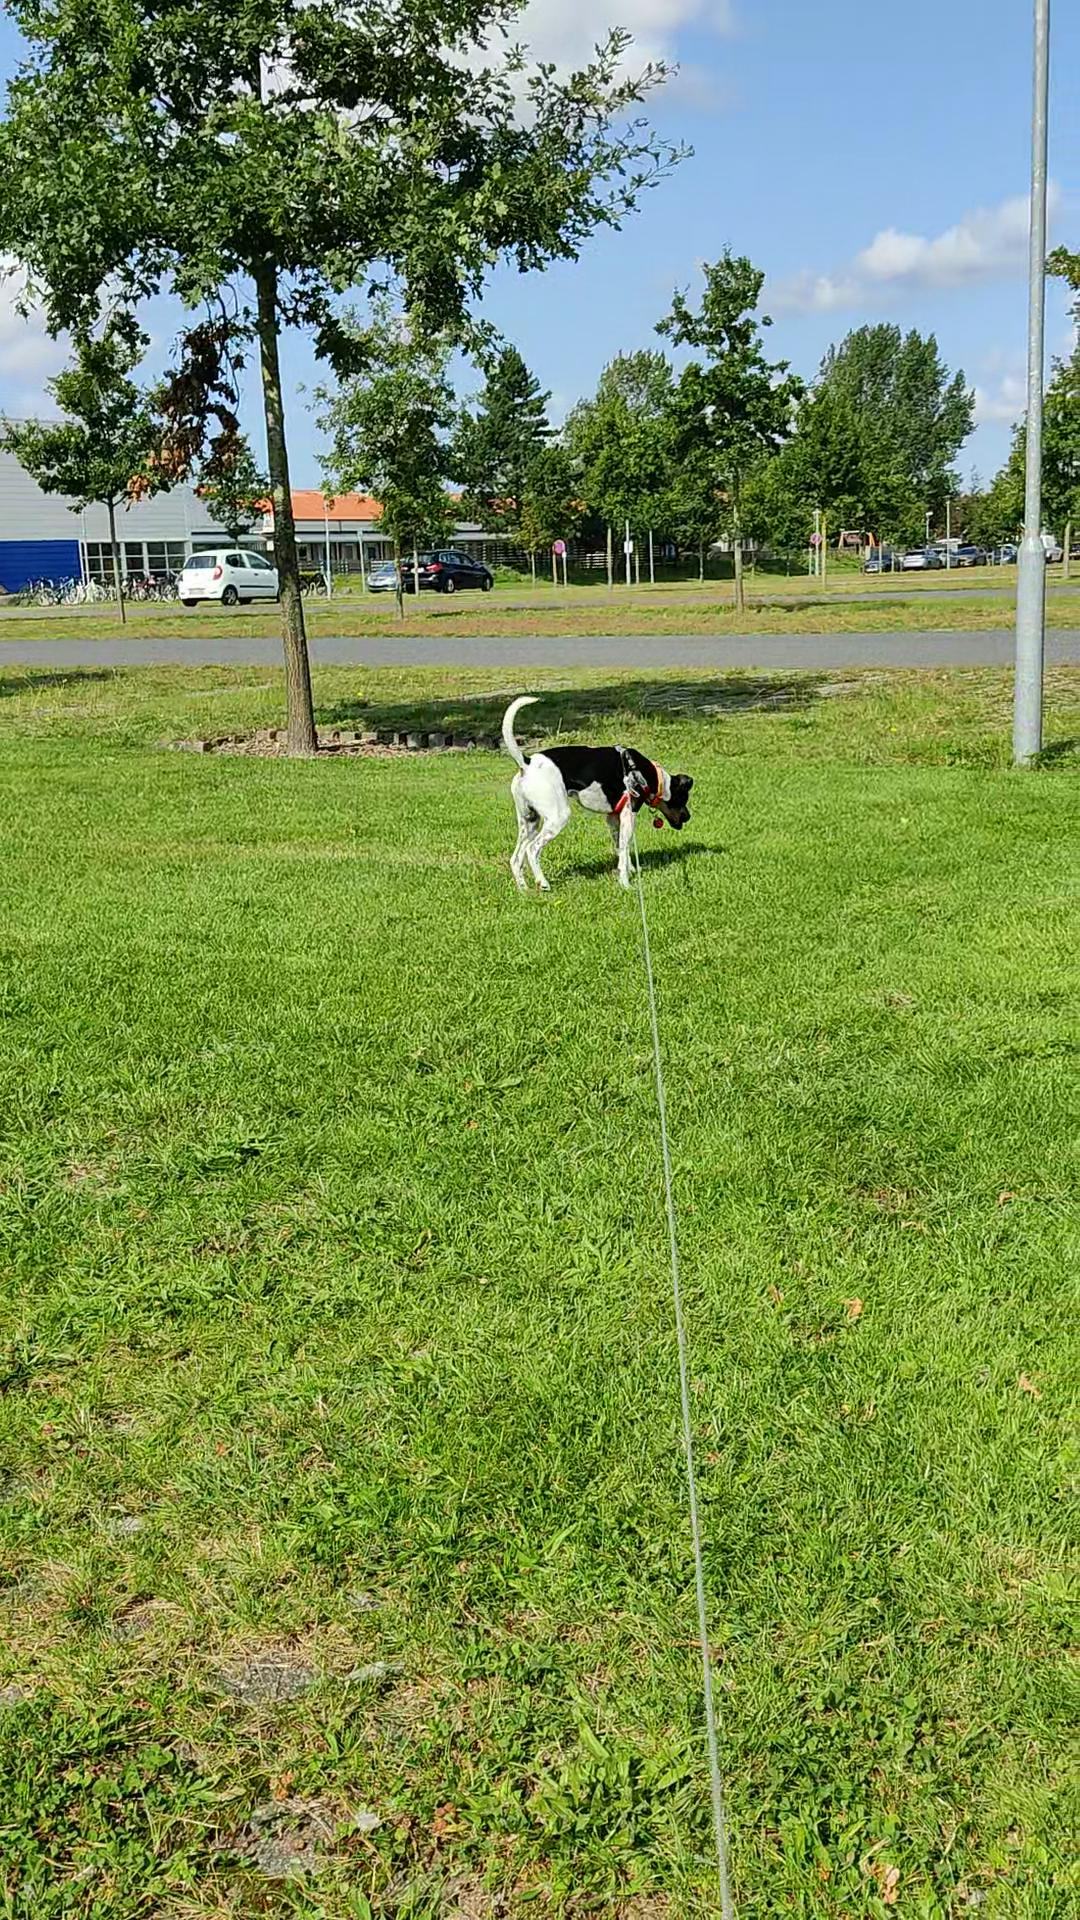Dog: (491, 690, 699, 893)
